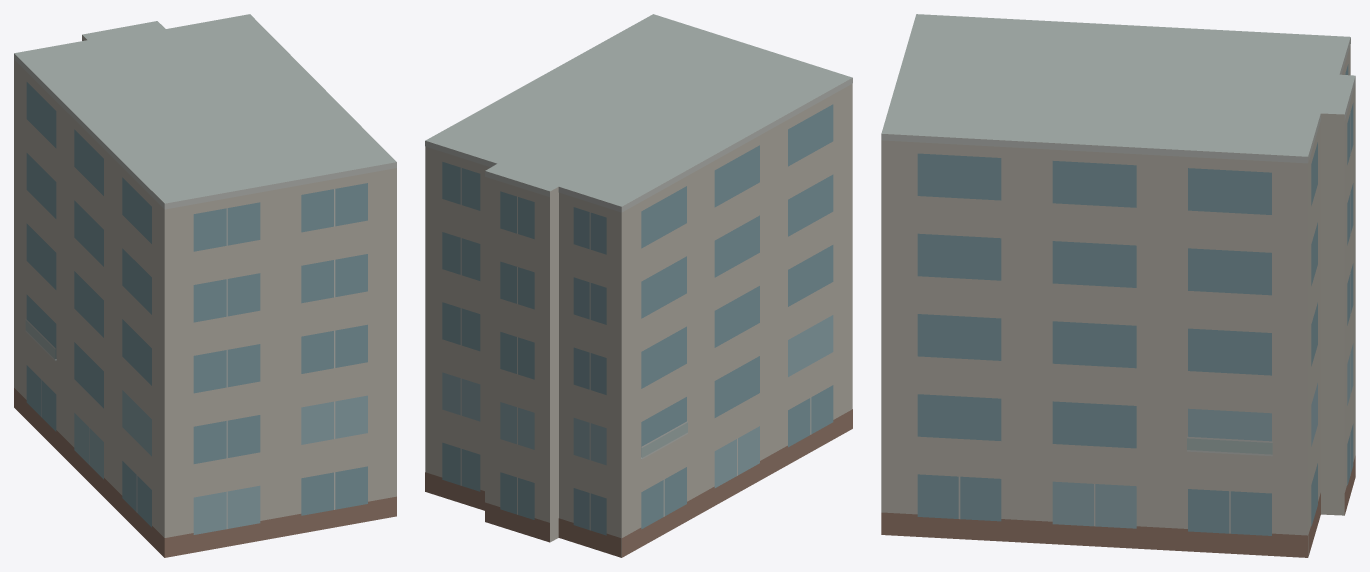
Rendered from survey-upis-32893378.glb.
3 views of the same model, side by side, from view 1: azimuth 30°, elevation 25°; view 2: azimuth 150°, elevation 25°; view 3: azimuth 270°, elevation 25° (orthographic). The views are drawn at different scales.
Visible parts, largest first — view 1: survey-upis-32893378.tmp; view 2: survey-upis-32893378.tmp; view 3: survey-upis-32893378.tmp.
Part boxes in pixels (bbox=[...]): survey-upis-32893378.tmp: bbox=[14, 14, 396, 557]; survey-upis-32893378.tmp: bbox=[425, 14, 852, 557]; survey-upis-32893378.tmp: bbox=[881, 14, 1355, 557].
Bounding box in the file's own units: 11.23 × 14.7 × 15.76.
